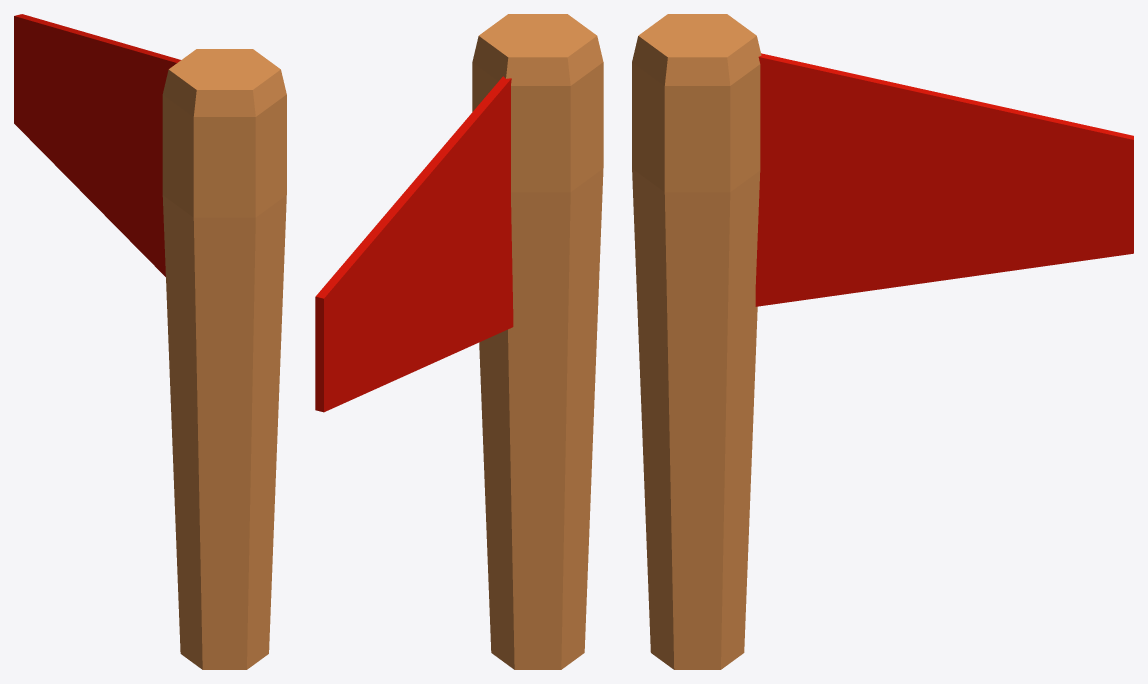
Rendered from bandera.fbx.
3 views of the same model, side by side, from view 1: azimuth 30°, elevation 25°; view 2: azimuth 150°, elevation 25°; view 3: azimuth 270°, elevation 25° (orthographic). The views are drawn at different scales.
Visible parts, largest first — view 1: Palo, Cube; view 2: Palo, Cube; view 3: Palo, Cube.
Boxes of the visible parts, x1,y1,x2,y2 form: Palo: (162, 49, 286, 669); Cube: (14, 14, 180, 276); Palo: (472, 14, 603, 669); Cube: (315, 76, 513, 412); Palo: (632, 14, 761, 669); Cube: (755, 53, 1133, 306).
Size of the model in its own units: 38.27 by 230 by 169.
